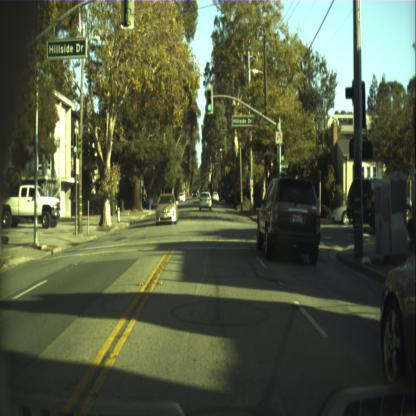Green: (206, 87, 214, 114), (73, 134, 76, 152), (281, 145, 284, 161), (202, 177, 204, 182)
